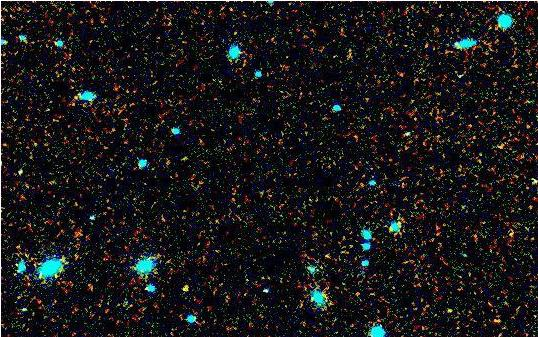star: (170, 272, 200, 302)
